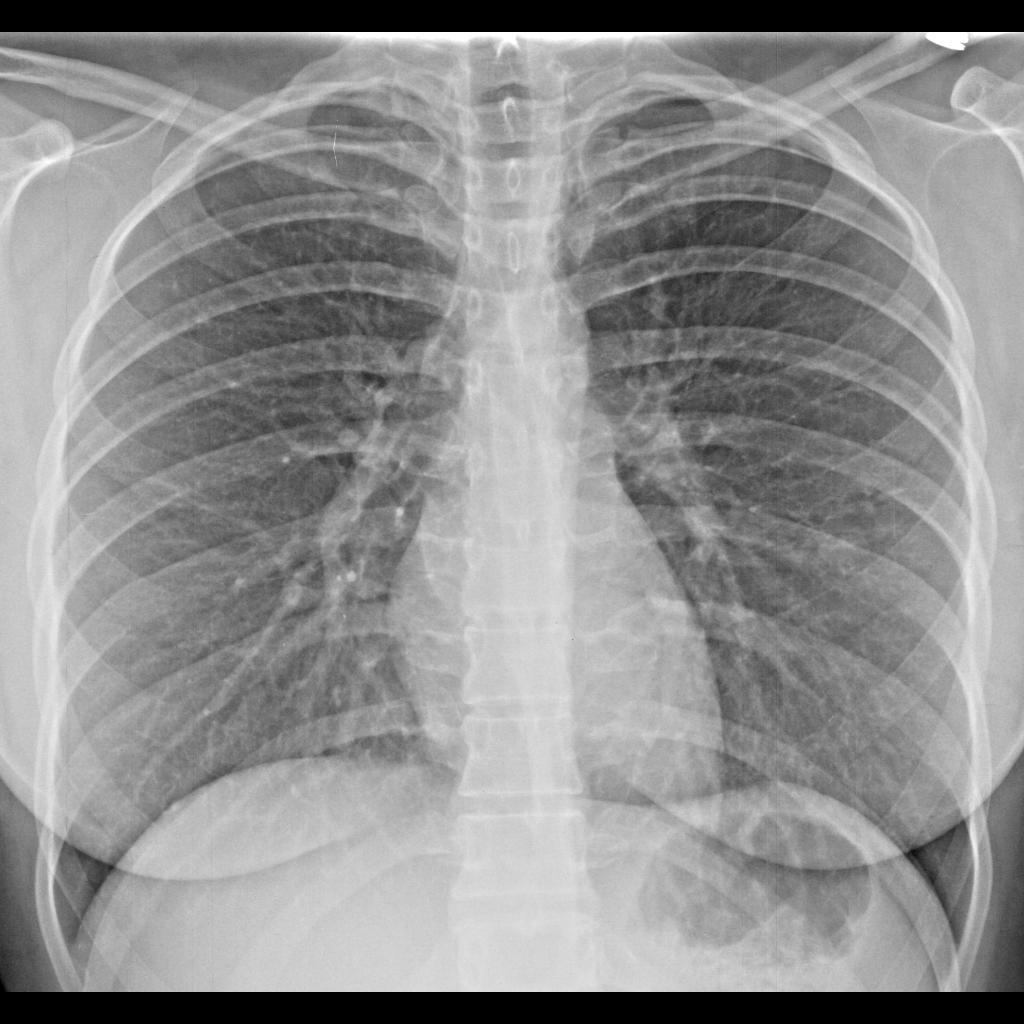Nodule: (824, 522, 861, 559)
